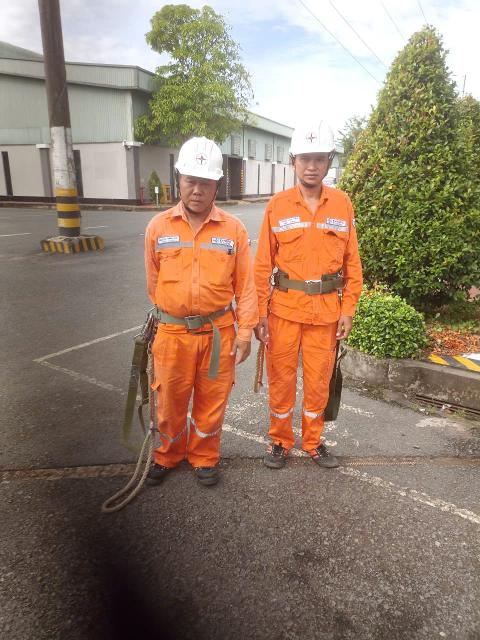harness: (251, 263, 370, 308), (141, 305, 234, 338)
helmet: (170, 132, 236, 186), (275, 112, 341, 163)
shoes: (296, 422, 342, 474), (247, 435, 295, 472), (123, 453, 174, 485), (174, 453, 219, 486)
